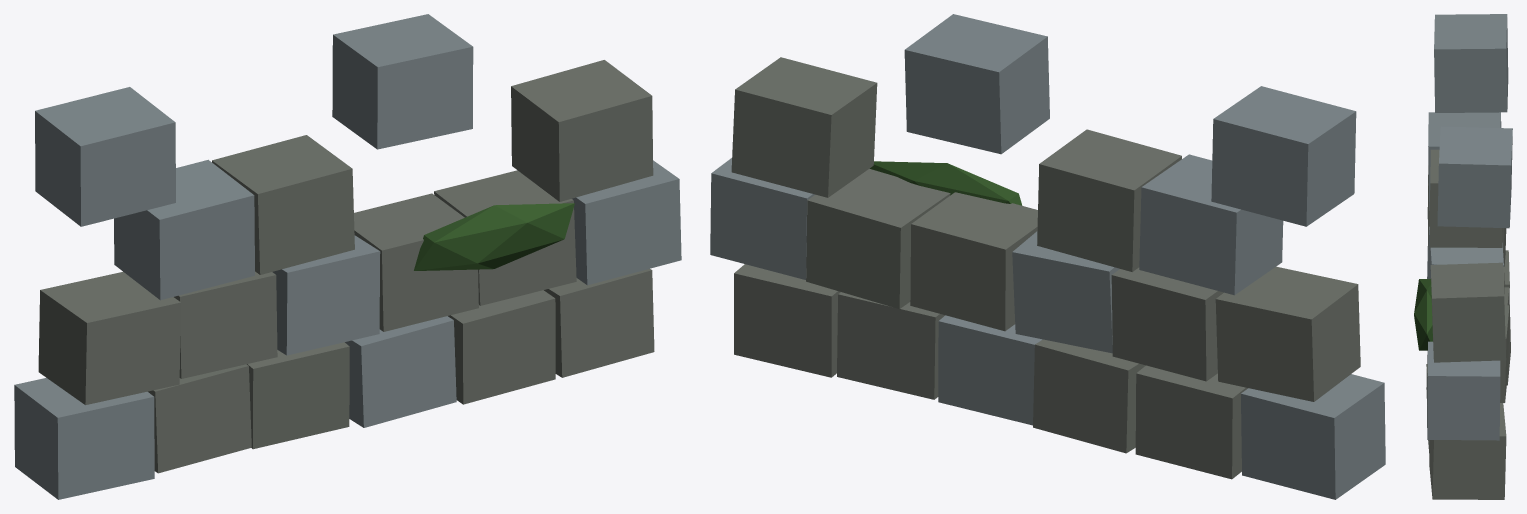
Rendered from ruin_wall_b.glb.
3 renders of one model, left to right at view 1: azimuth 30°, elevation 25°; view 2: azimuth 150°, elevation 25°; view 3: azimuth 270°, elevation 25°, orthographic. The views are drawn at different scales.
Parts seen in each view (by area): view 1: Block_2_5, Block_3_0.001, Block_3_3.001, Block_1_0.001, Block_2_1.001, Block_0_0.001, Block_2_2, Block_1_3.001, Block_1_5.001, Block_0_3.001, Block_0_4.001, Block_1_2.001 (+6 smaller); view 2: Block_3_3.001, Block_3_0.001, Block_2_5, Block_1_0.001, Block_0_0.001, Block_2_1.001, Block_2_2, Block_1_3.001, Block_1_4.001, Block_0_1.001, Block_1_1.001, Block_0_2.001 (+6 smaller); view 3: Block_3_3.001, Block_3_0.001, Block_2_5, Block_1_5.001, Block_0_5.001, Block_2_2, Block_2_1.001, Block_1_2.001, Moss.001, Block_1_4.001, Block_0_2.001, Block_0_1.001 (+1 smaller).
Boxes of the visible parts, x1,y1,x2,y2 form: Block_2_5: (511, 60, 653, 201); Block_3_0.001: (35, 87, 175, 226); Block_3_3.001: (332, 14, 473, 149); Block_1_0.001: (38, 272, 180, 405); Block_2_1.001: (114, 159, 254, 300); Block_0_0.001: (14, 378, 154, 499); Block_2_2: (212, 135, 354, 274); Block_1_3.001: (354, 193, 478, 331); Block_1_5.001: (572, 160, 681, 285); Block_0_3.001: (345, 316, 456, 427); Block_0_4.001: (448, 290, 555, 404); Block_1_2.001: (272, 235, 380, 355); Block_3_3.001: (904, 14, 1049, 154); Block_3_0.001: (1211, 86, 1356, 226); Block_2_5: (731, 57, 877, 197); Block_1_0.001: (1215, 266, 1360, 401); Block_0_0.001: (1241, 374, 1385, 499); Block_2_1.001: (1139, 154, 1283, 295); Block_2_2: (1037, 129, 1181, 271); Block_1_3.001: (910, 192, 1037, 331); Block_1_4.001: (806, 168, 950, 308); Block_0_1.001: (1135, 365, 1248, 479); Block_1_1.001: (1111, 267, 1223, 381); Block_0_2.001: (1033, 339, 1145, 453); Block_3_3.001: (1437, 126, 1512, 228); Block_3_0.001: (1434, 14, 1508, 112); Block_2_5: (1430, 262, 1506, 362); Block_1_5.001: (1427, 341, 1500, 440); Block_0_5.001: (1429, 403, 1506, 499); Block_2_2: (1430, 149, 1502, 247); Block_2_1.001: (1428, 112, 1501, 210); Block_1_2.001: (1427, 226, 1503, 278); Moss.001: (1414, 279, 1432, 350); Block_1_4.001: (1500, 305, 1509, 402); Block_0_2.001: (1504, 287, 1510, 385); Block_0_1.001: (1504, 250, 1509, 291).
Size of the model in its own units: 4.48 by 2.42 by 0.7919.
